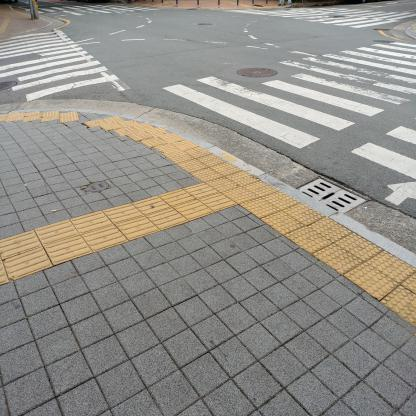podotacti: (0, 178, 415, 337), (0, 87, 253, 182)
